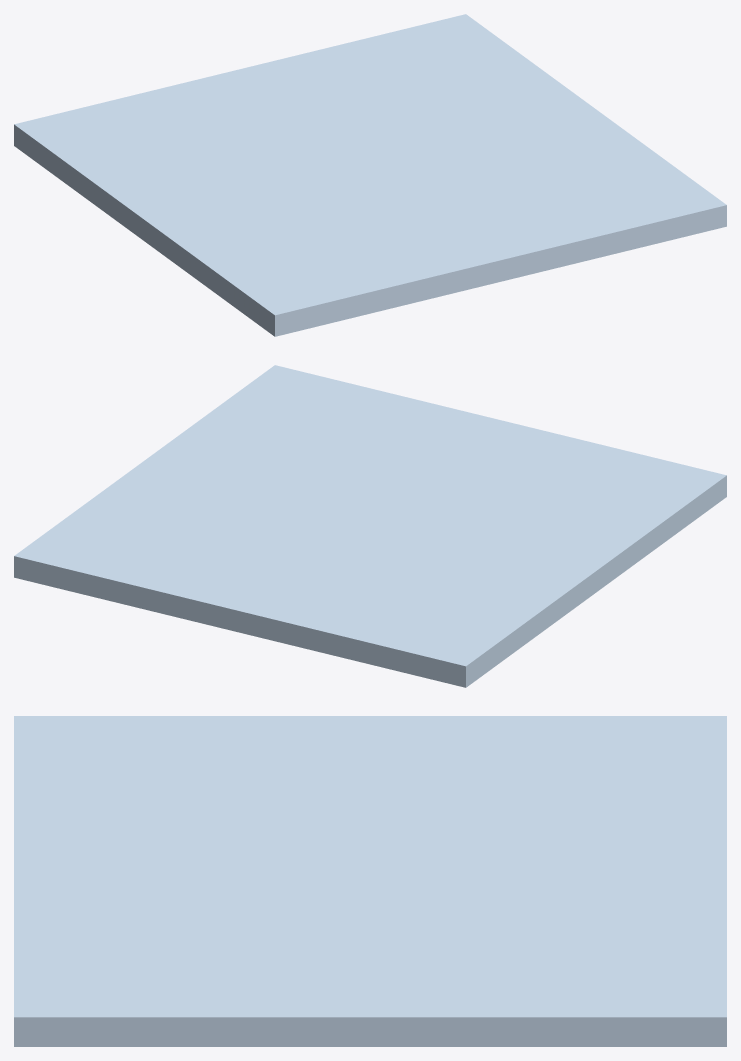
The model's file is ReadingLightFix.fbx.
3 views of the same model, one above another, from view 1: azimuth 30°, elevation 25°; view 2: azimuth 150°, elevation 25°; view 3: azimuth 270°, elevation 25° (orthographic). The views are drawn at different scales.
Parts seen in each view (by area): view 1: TopLight; view 2: TopLight; view 3: TopLight.
Part boxes in pixels (x1,y1,x2,y2): TopLight: [14, 14, 726, 336]; TopLight: [14, 365, 726, 687]; TopLight: [14, 716, 726, 1046].
Bounding box in the file's own units: 76.9 × 3.5 × 76.9.
